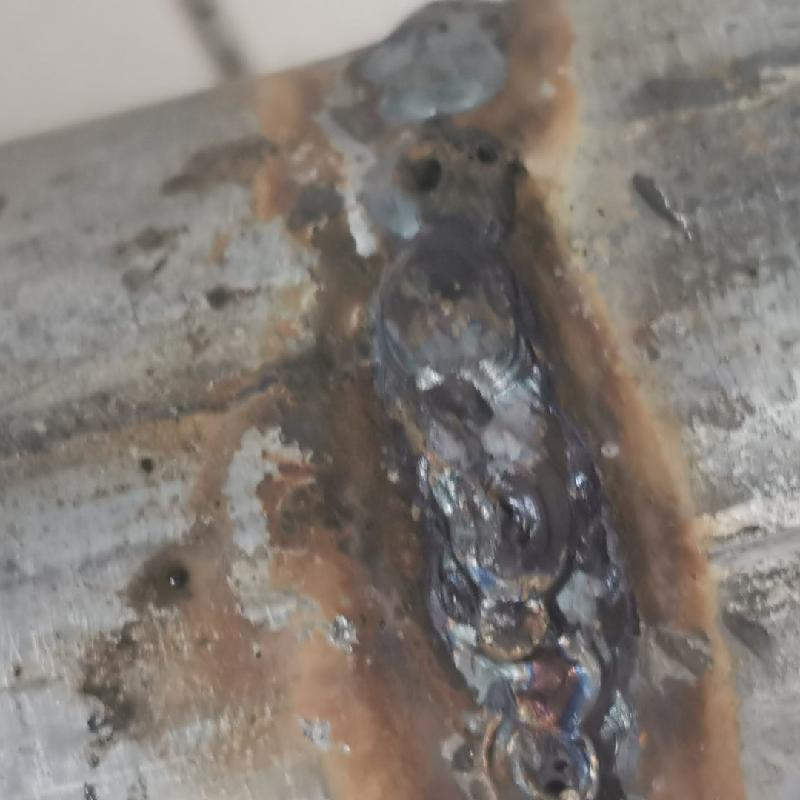Surface_pores: (383, 115, 514, 210)
crater: (409, 393, 626, 796)
wrong_size: (340, 0, 534, 385)
